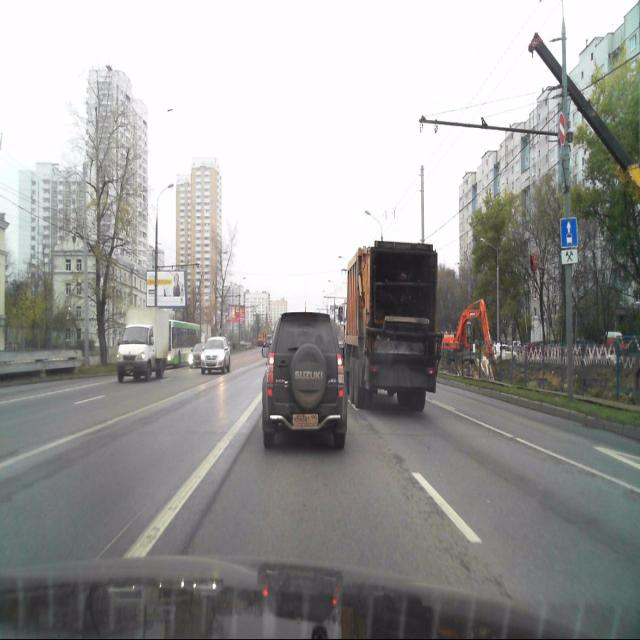road sign: (560, 218, 578, 249), (560, 249, 578, 264)
